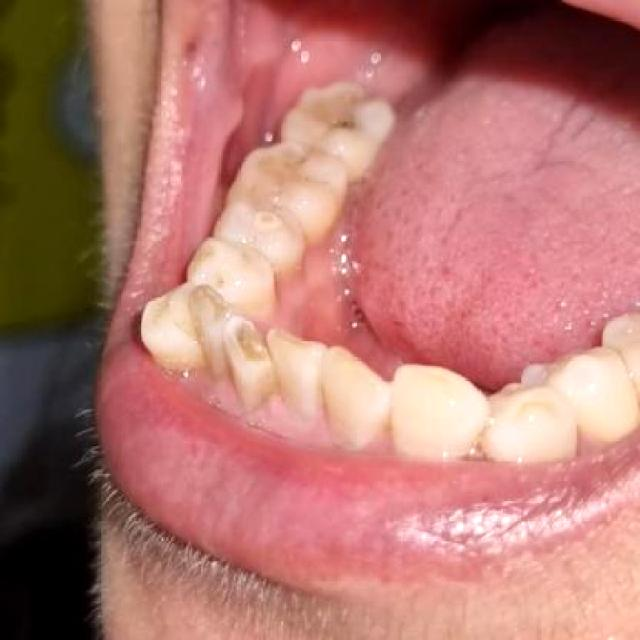Plaque: (282, 152, 316, 175), (326, 111, 362, 132)
